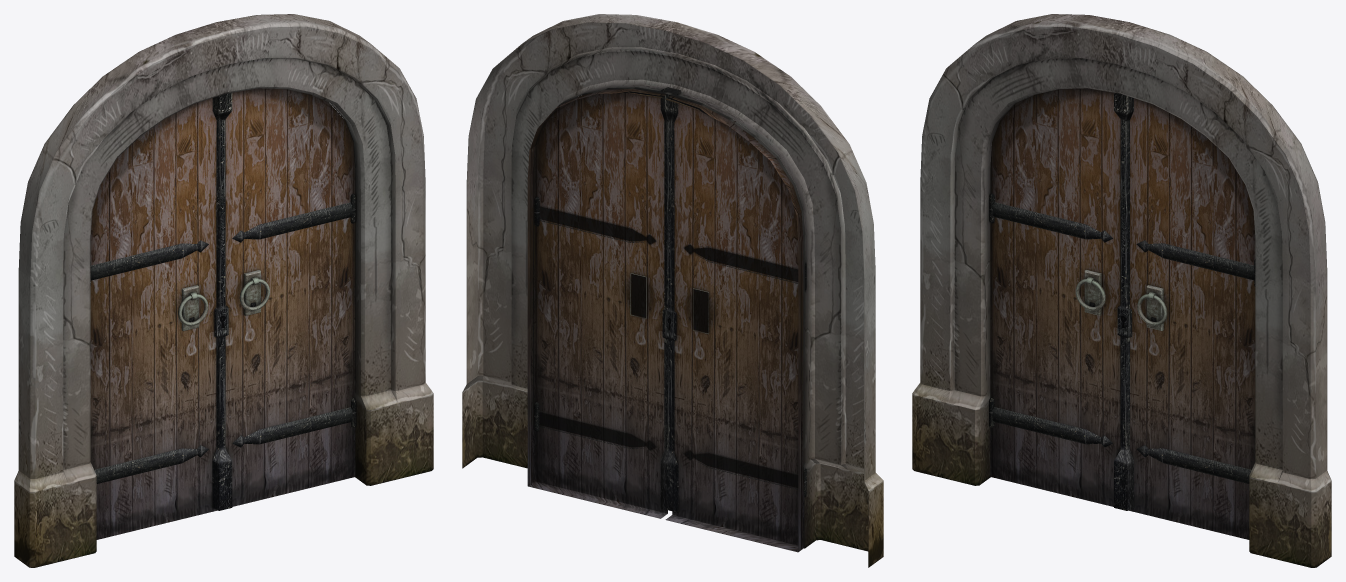
File: entrydoor.fbx
The picture shows the model from 3 angles, left to right: view 1: azimuth 30°, elevation 25°; view 2: azimuth 150°, elevation 25°; view 3: azimuth 330°, elevation 25°; orthographic projection.
Parts seen in each view (by area): view 1: polySurface1002; view 2: polySurface1002; view 3: polySurface1002.
Boxes of the visible parts, x1,y1,x2,y2 form: polySurface1002: (14,14,433,567); polySurface1002: (462,14,883,567); polySurface1002: (912,14,1331,567).
Size of the model in its own units: 290 by 333 by 23.89.
